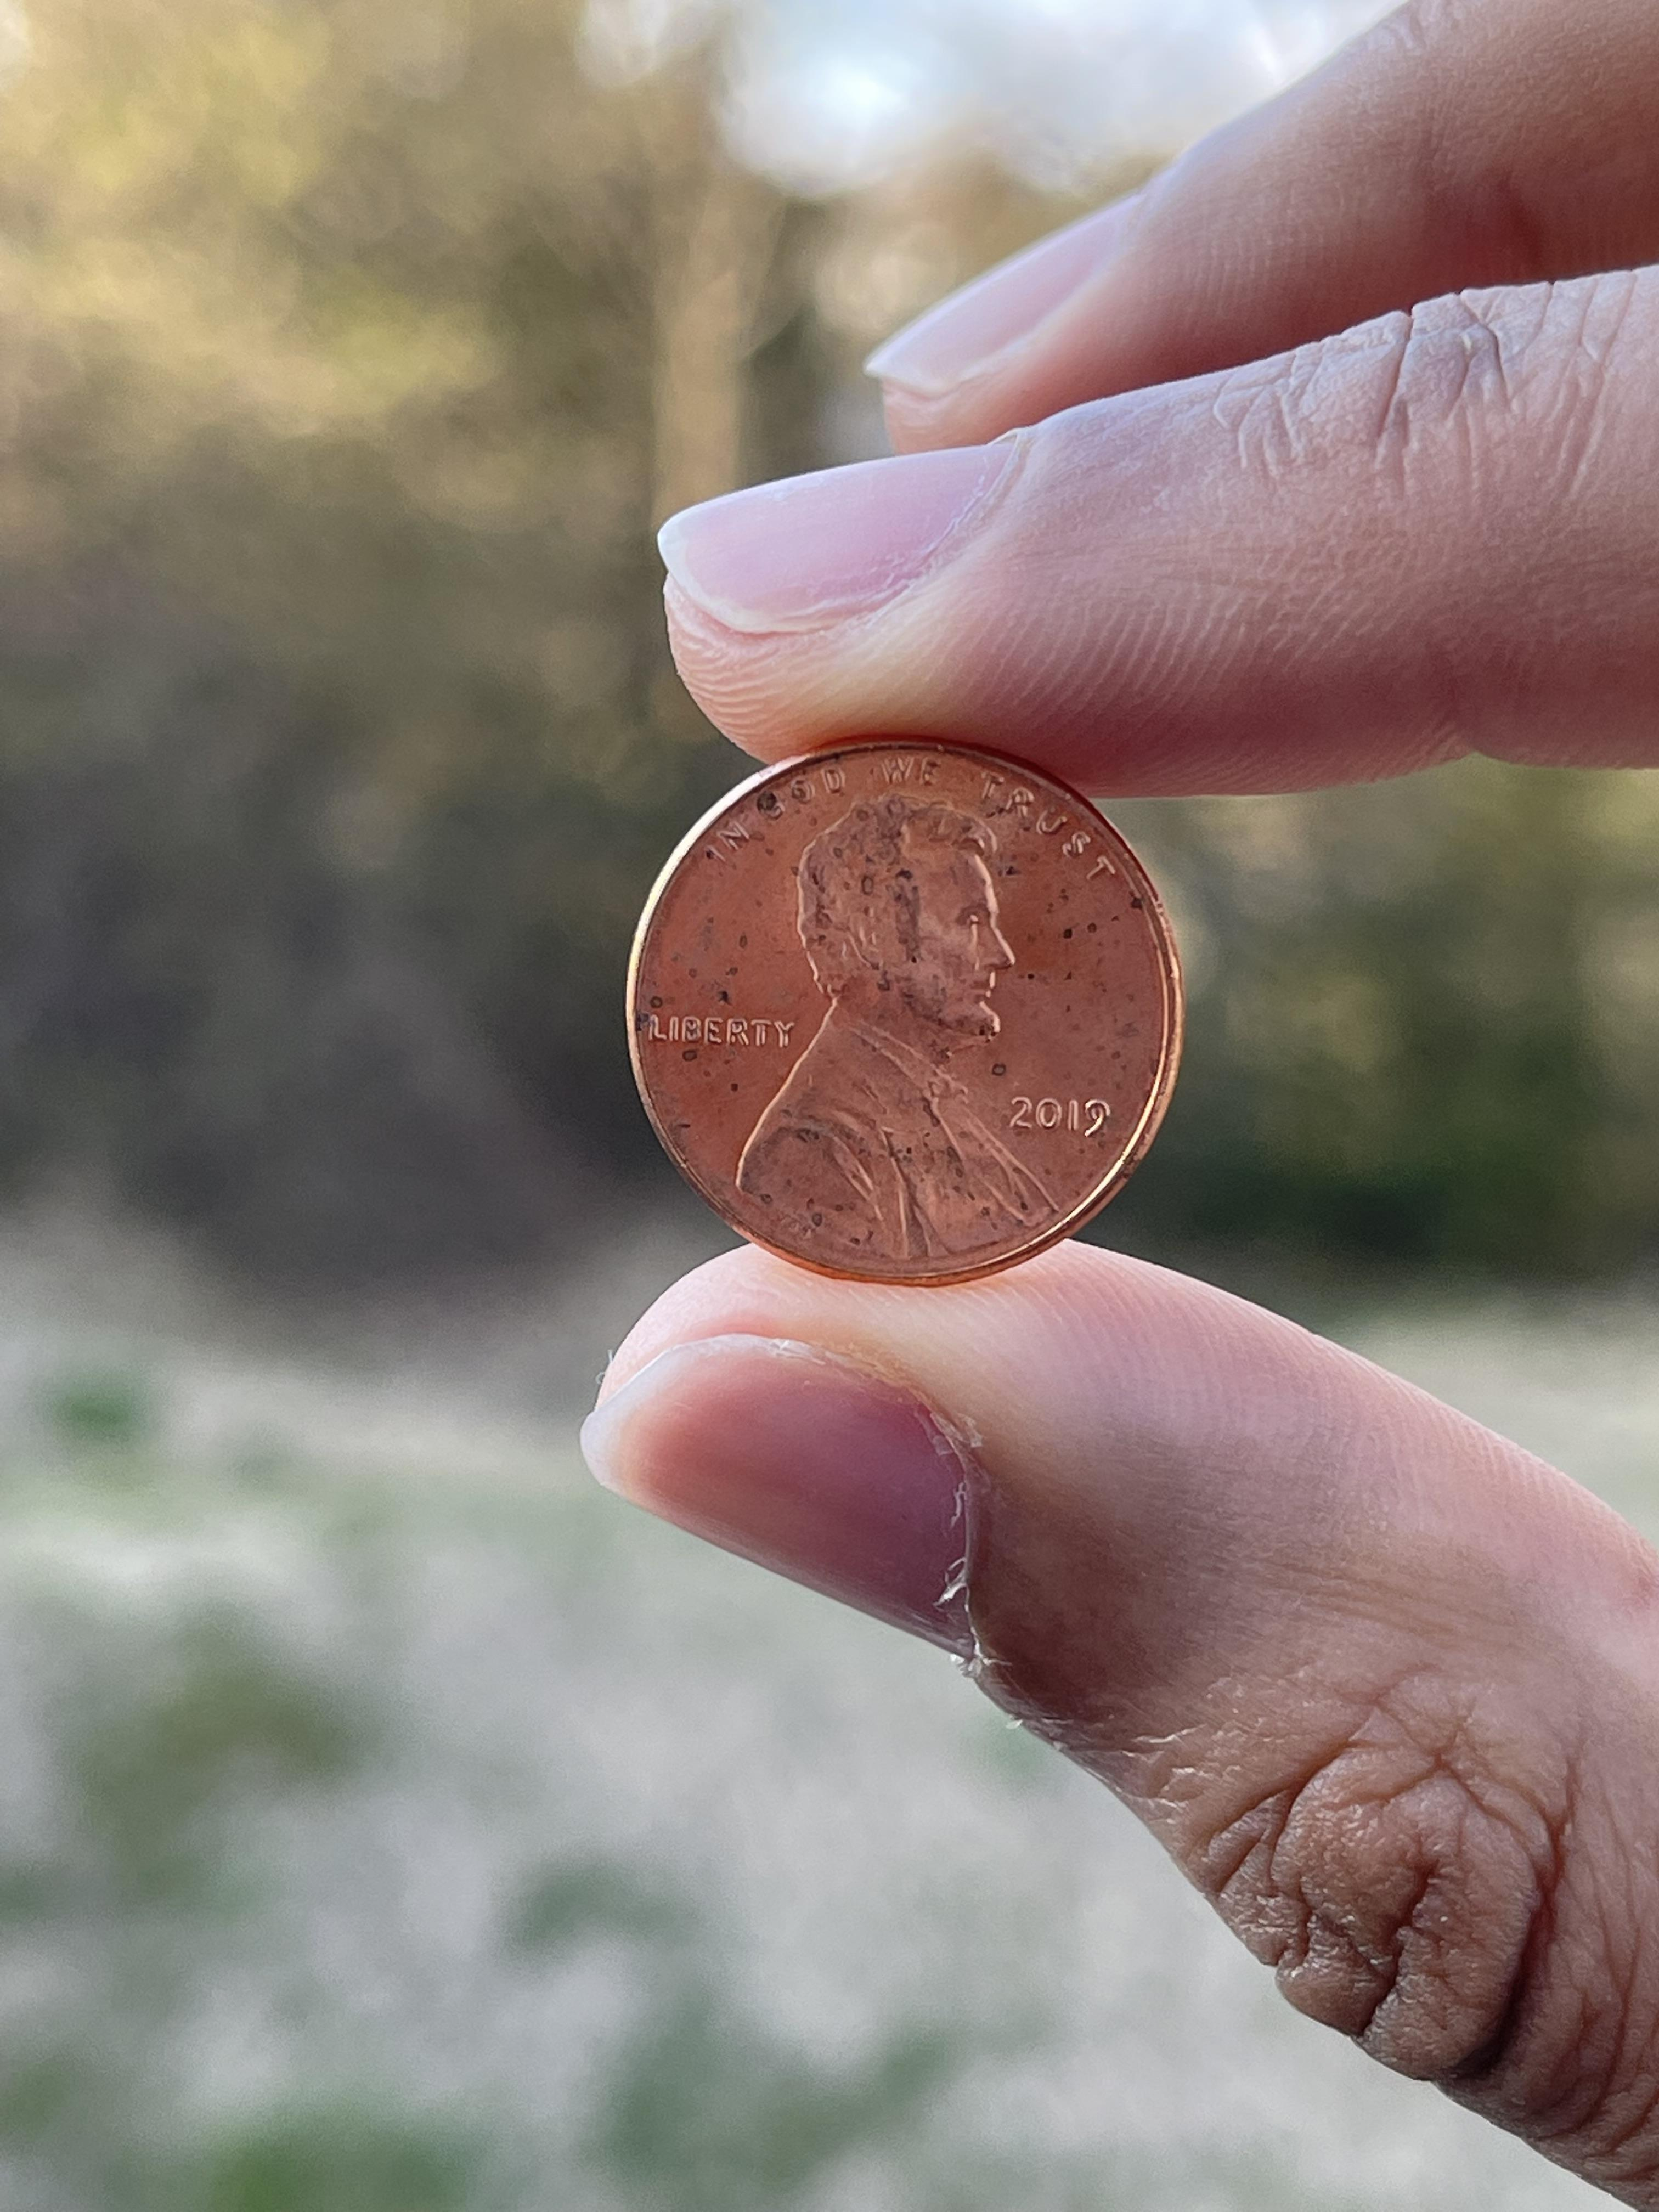Penny: (622, 737, 1187, 1291)
